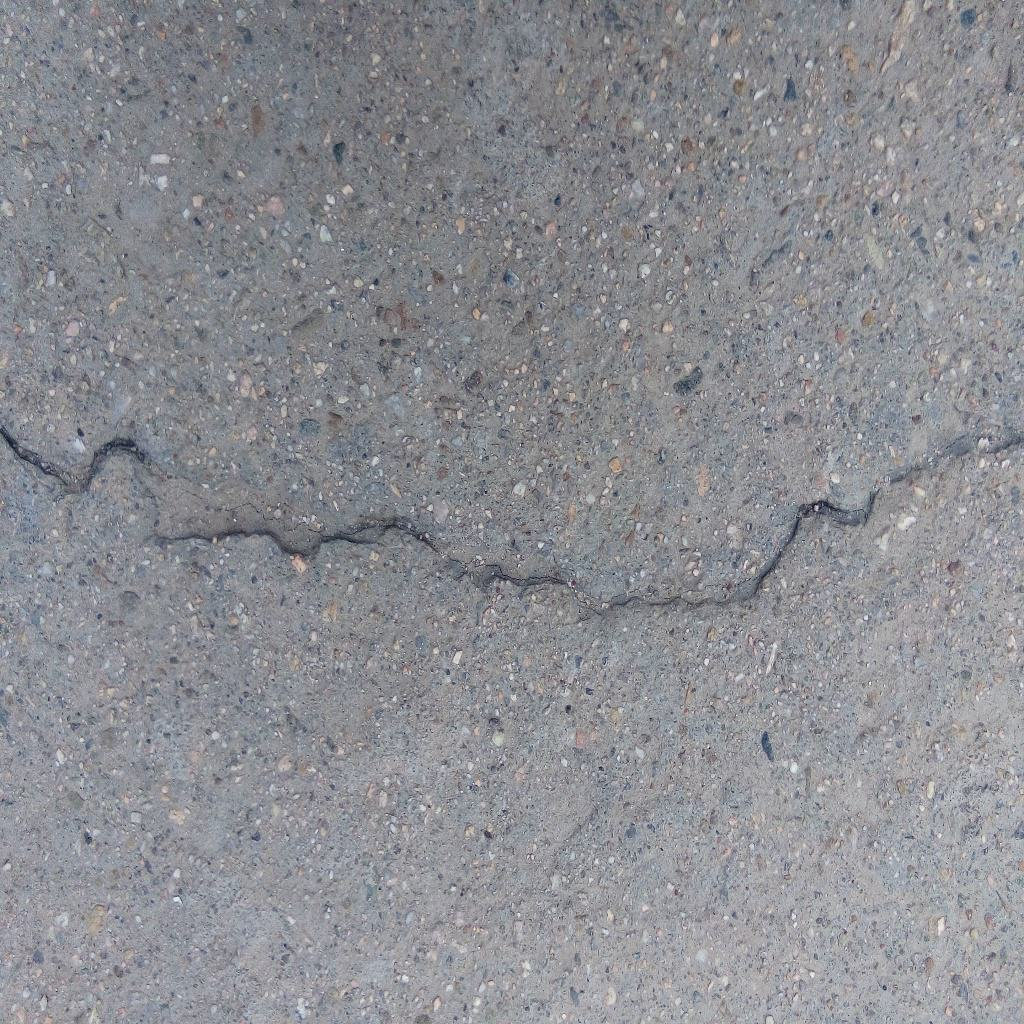Crack: (1, 425, 1024, 609)
